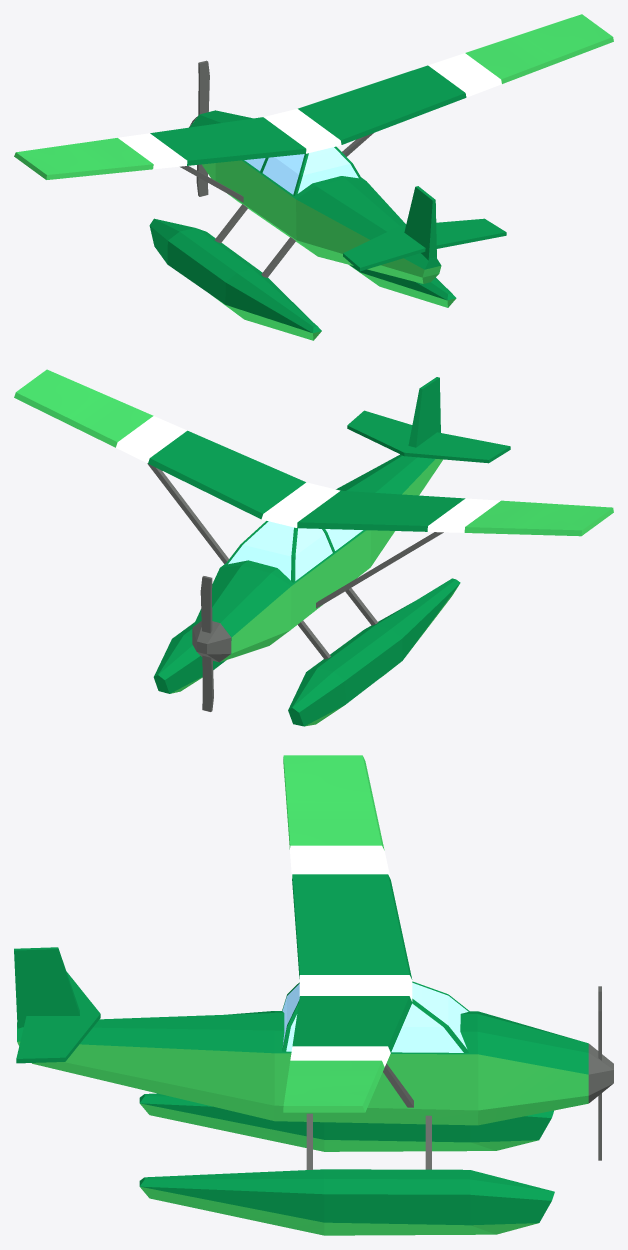
Rendered from transport_air.006.glb.
3 renders of one model, top to bottom at view 1: azimuth 30°, elevation 25°; view 2: azimuth 150°, elevation 25°; view 3: azimuth 270°, elevation 25°, orthographic. The views are drawn at different scales.
Parts seen in each view (by area): view 1: transport_air.006(Clone); view 2: transport_air.006(Clone); view 3: transport_air.006(Clone).
Boxes of the visible parts, x1,y1,x2,y2 form: transport_air.006(Clone): (14,14,613,340); transport_air.006(Clone): (14,369,613,726); transport_air.006(Clone): (14,755,613,1235).
Size of the model in its own units: 10.04 by 3.52 by 7.24.
Materials: 1 (1 with a texture image).
